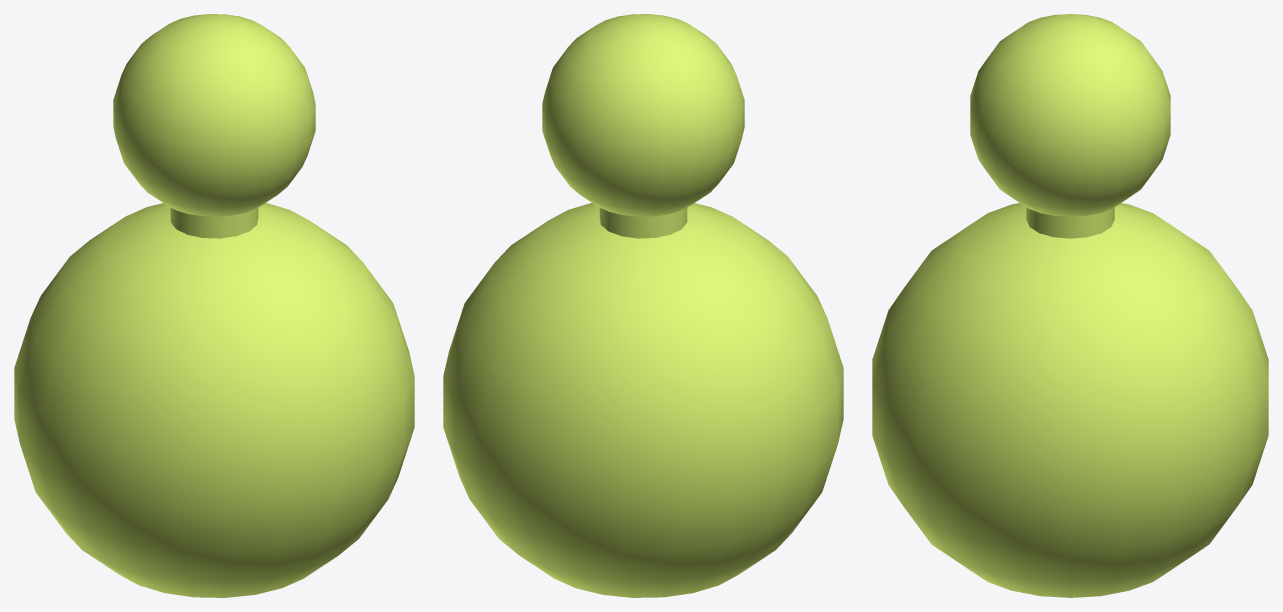
Rendered from Head3.glb.
3 views of the same model, side by side, from view 1: azimuth 30°, elevation 25°; view 2: azimuth 150°, elevation 25°; view 3: azimuth 270°, elevation 25° (orthographic).
Visible parts, largest first — view 1: Head_Bun; view 2: Head_Bun; view 3: Head_Bun.
Boxes of the visible parts, x1=… form: Head_Bun: x1=14, y1=14, x2=414, y2=597; Head_Bun: x1=443, y1=14, x2=843, y2=597; Head_Bun: x1=872, y1=14, x2=1268, y2=597.
Size of the model in its own units: 245 by 377 by 243.
